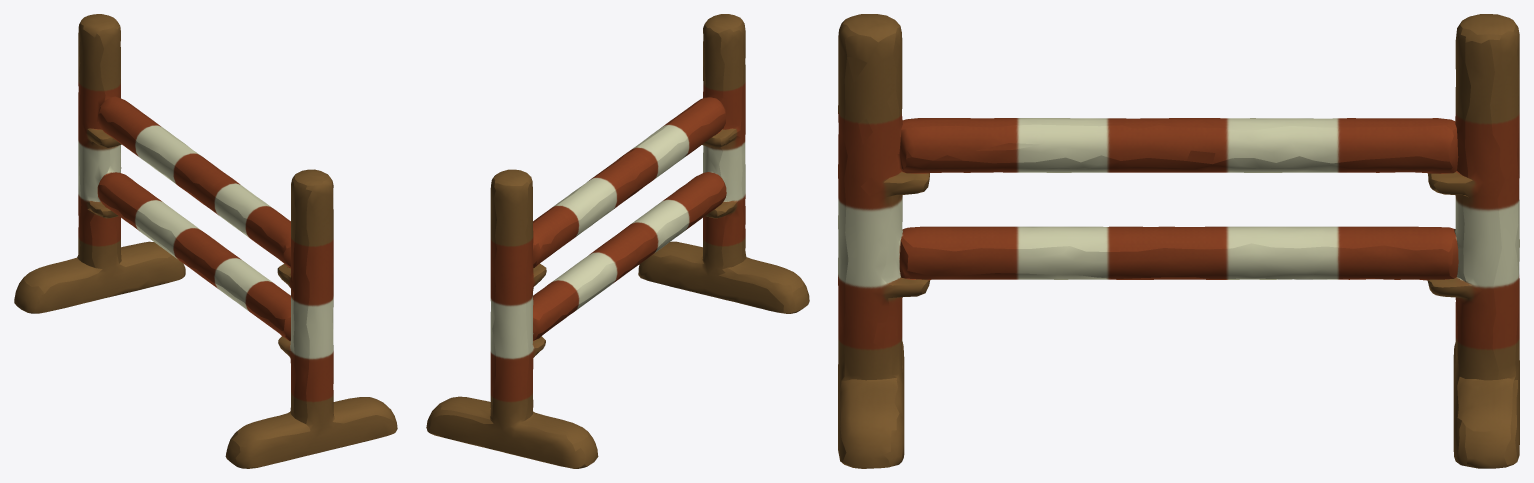
The model's file is ENV_09_HURDLE.glb.
3 views of the same model, side by side, from view 1: azimuth 30°, elevation 25°; view 2: azimuth 150°, elevation 25°; view 3: azimuth 270°, elevation 25° (orthographic). The views are drawn at different scales.
Visible parts, largest first — view 1: world; view 2: world; view 3: world.
Boxes of the visible parts, <box> form: world: <box>14,14,397,468</box>; world: <box>426,14,809,468</box>; world: <box>838,14,1519,468</box>.
Bounding box in the file's own units: 0.4011 × 0.6363 × 1.
1 material, 1 textured.
